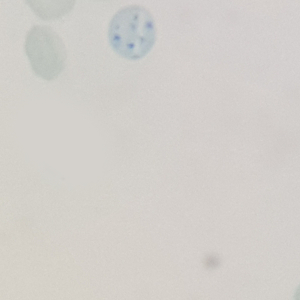aggregate reticulocyte: (106, 4, 158, 62)
erythrocyte: (23, 24, 70, 83)
